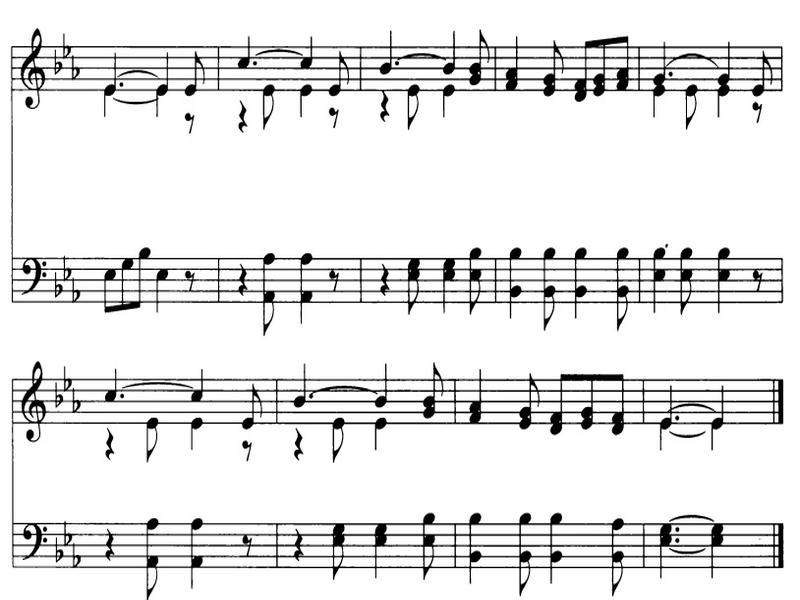Bem: (70, 545, 83, 583), (69, 281, 84, 310), (49, 46, 63, 74), (70, 388, 82, 419), (63, 514, 76, 542), (52, 274, 64, 302), (60, 254, 72, 282), (52, 385, 65, 407), (53, 539, 64, 564), (69, 62, 81, 81), (62, 32, 70, 56), (61, 369, 69, 393)
C: (318, 517, 358, 584), (543, 364, 573, 441), (514, 366, 546, 438), (417, 361, 448, 423), (398, 254, 427, 318), (542, 32, 569, 99), (131, 246, 157, 314), (141, 401, 167, 466), (322, 412, 352, 467), (257, 75, 285, 132), (471, 26, 496, 89), (137, 553, 171, 599), (673, 80, 703, 132), (400, 77, 427, 134), (751, 44, 779, 97), (574, 31, 593, 108), (239, 378, 268, 428), (183, 45, 210, 98), (607, 366, 626, 439), (609, 34, 632, 94), (414, 534, 442, 583), (604, 549, 631, 599), (511, 549, 539, 597), (577, 369, 597, 434), (596, 28, 614, 98), (117, 254, 137, 316), (538, 286, 562, 334), (97, 265, 118, 318), (256, 293, 277, 340), (465, 270, 487, 314), (613, 286, 632, 331), (677, 269, 695, 314)
CF: (16, 243, 50, 305), (22, 510, 50, 568)
CS: (15, 360, 48, 448), (17, 23, 47, 115)
N: (497, 30, 527, 94), (187, 516, 212, 590), (368, 519, 392, 595), (547, 511, 570, 590), (505, 246, 528, 324), (461, 364, 490, 425), (713, 247, 738, 314), (717, 16, 740, 86), (570, 243, 588, 324), (708, 380, 737, 428), (294, 251, 312, 326), (440, 253, 459, 324), (650, 247, 667, 324), (185, 364, 215, 404), (656, 374, 677, 431), (155, 39, 177, 93), (441, 24, 464, 75), (90, 364, 119, 403), (710, 519, 726, 586), (234, 30, 260, 68), (653, 30, 670, 84), (293, 357, 310, 411), (376, 26, 394, 75), (299, 31, 323, 67), (101, 43, 117, 94), (437, 84, 458, 122), (467, 507, 485, 550), (376, 354, 390, 409), (709, 414, 727, 455), (187, 415, 202, 462), (297, 84, 314, 124), (141, 514, 159, 550), (467, 550, 484, 587), (100, 80, 115, 121), (151, 86, 169, 120), (155, 264, 167, 313), (659, 418, 676, 452), (610, 516, 627, 549), (659, 527, 669, 582), (541, 245, 557, 279), (374, 415, 388, 453), (650, 84, 667, 114), (515, 513, 528, 550), (613, 244, 627, 278), (720, 84, 733, 117), (422, 512, 438, 533), (463, 246, 480, 262), (680, 246, 692, 265)
P: (117, 80, 130, 92), (392, 58, 403, 71), (674, 413, 685, 424), (673, 525, 684, 535), (252, 60, 262, 69), (667, 71, 677, 80), (309, 393, 317, 404), (122, 392, 129, 403), (675, 536, 682, 544), (662, 243, 669, 248)
SN: (98, 423, 121, 468), (227, 97, 252, 137), (92, 526, 117, 564), (233, 257, 257, 296), (234, 526, 261, 558), (287, 527, 311, 562), (287, 423, 309, 460), (172, 113, 204, 138), (372, 92, 393, 124), (323, 265, 344, 295), (327, 103, 347, 129), (377, 260, 390, 298), (232, 439, 251, 464), (747, 264, 765, 290), (181, 265, 199, 290), (747, 104, 770, 122)
